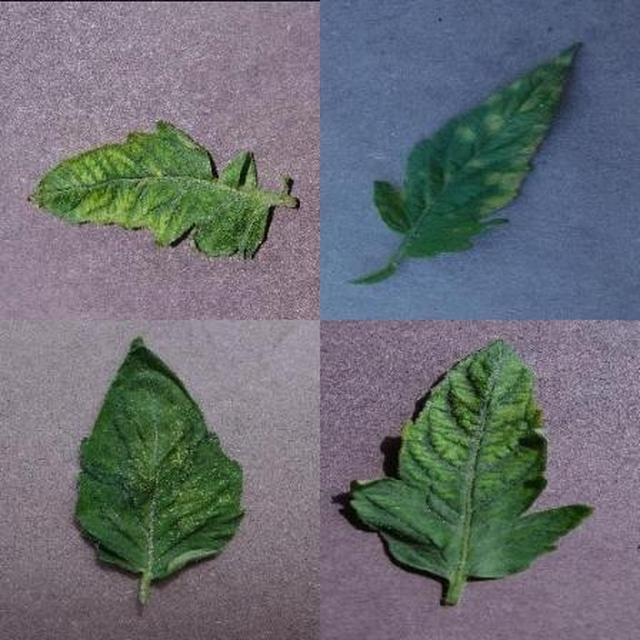Mosaic Virus Leaf: (212, 200, 640, 640)
